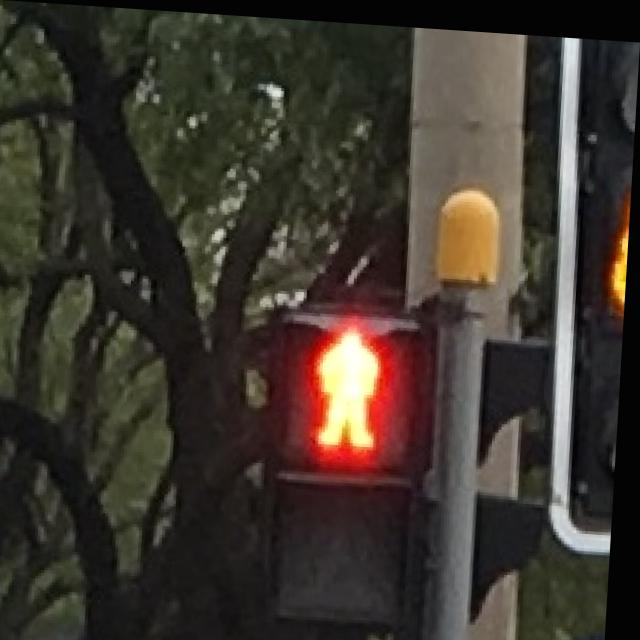red_light: (285, 313, 422, 464)
